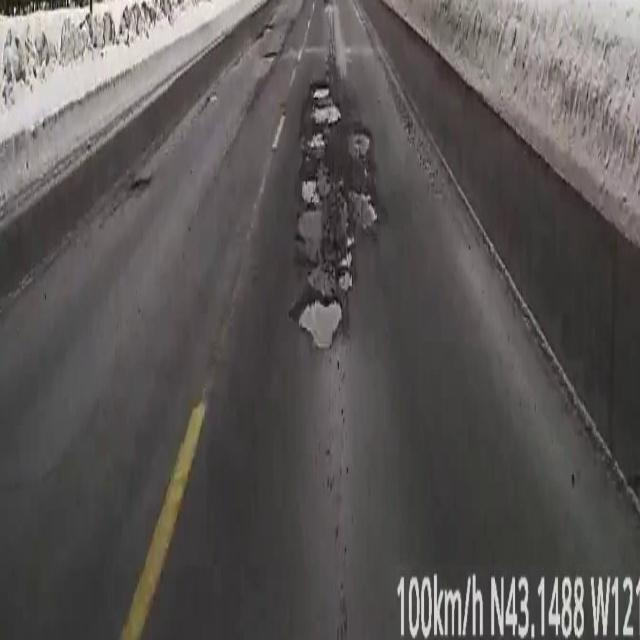pothole: (288, 79, 386, 353), (126, 173, 151, 200)
